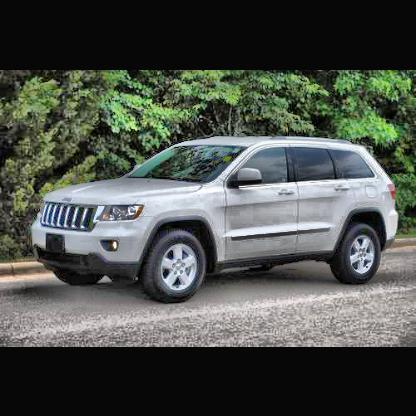Jeep Grand Cherokee SUV 2012: (32, 138, 403, 305)
